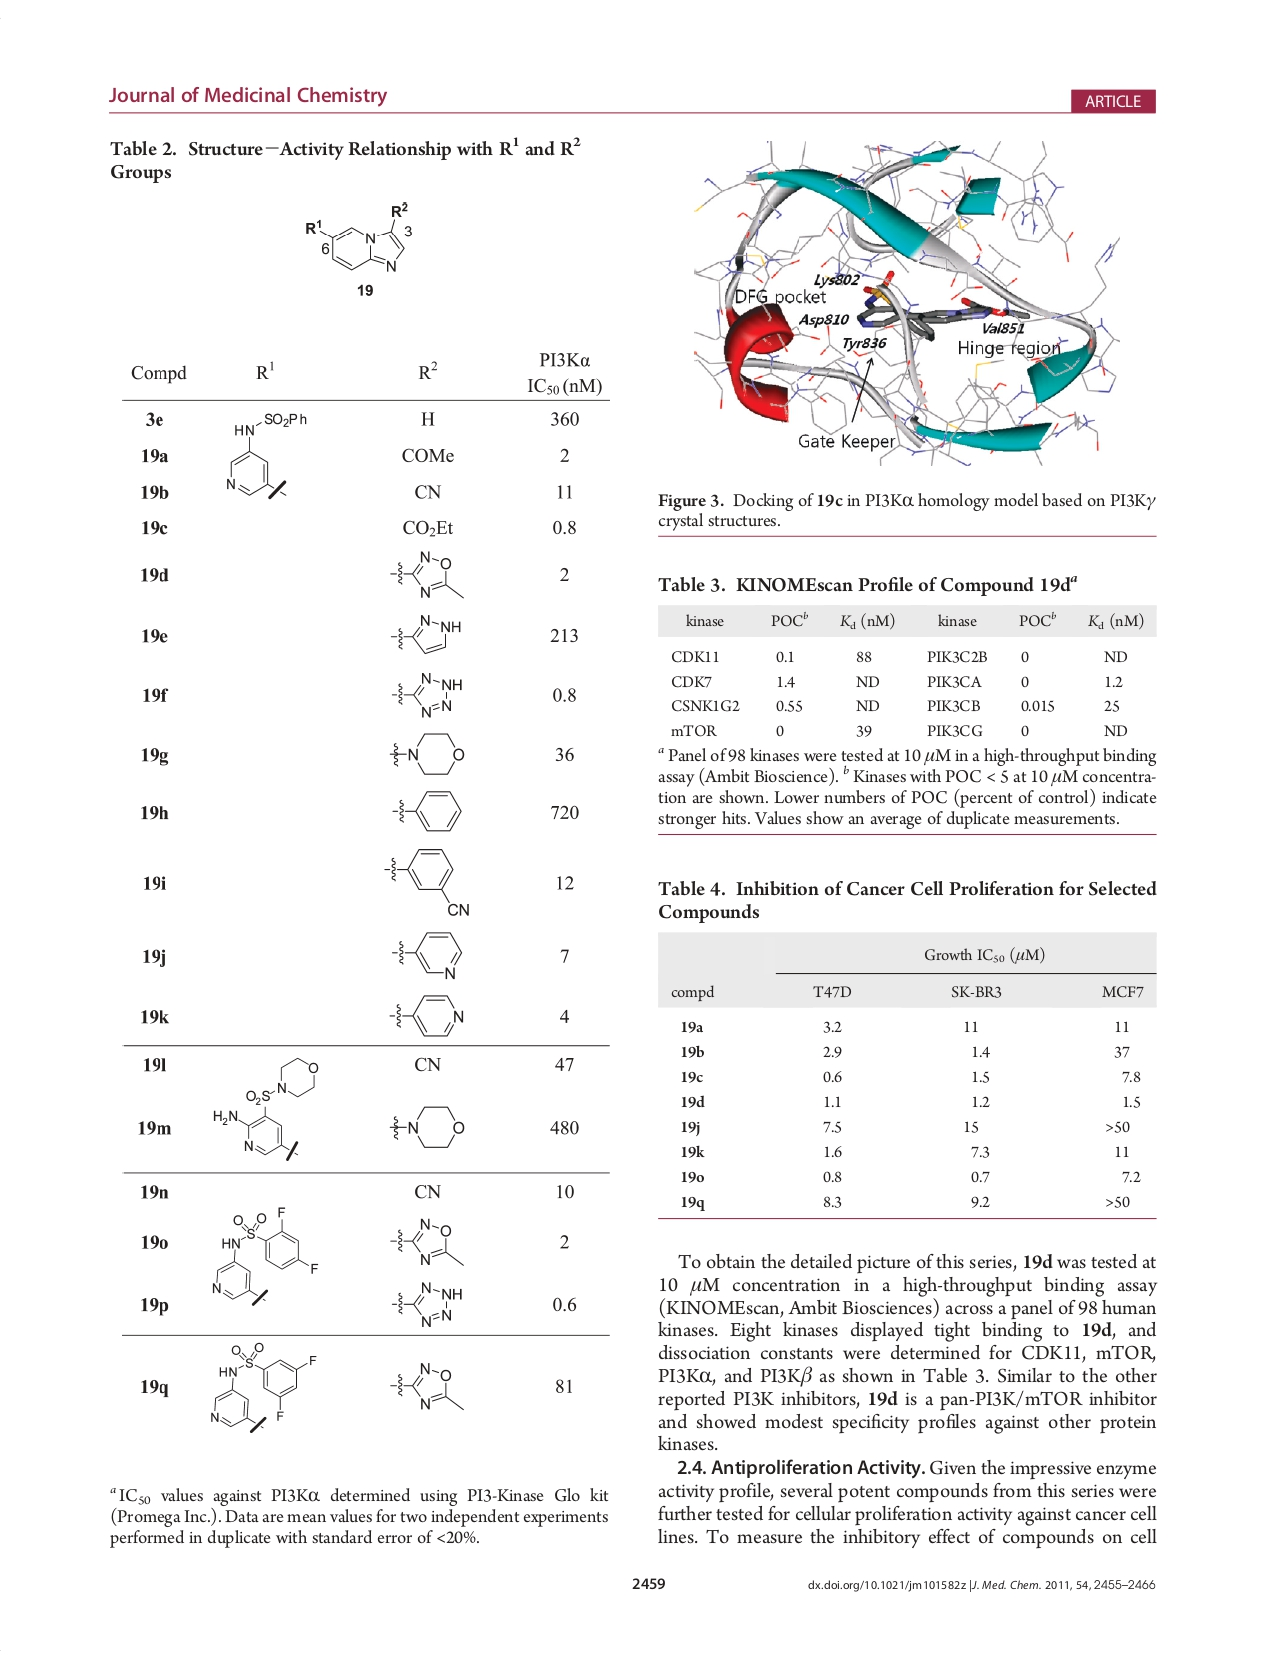exist_molecular: (206, 1204, 324, 1307), (207, 1056, 318, 1160), (207, 1341, 316, 1434), (305, 199, 414, 277), (221, 410, 309, 497), (382, 844, 471, 922), (387, 543, 465, 602), (387, 1358, 465, 1414), (390, 1214, 465, 1271), (386, 1275, 467, 1329), (386, 727, 465, 781), (384, 1102, 465, 1154), (386, 991, 465, 1040), (387, 928, 464, 979), (390, 670, 464, 722), (391, 786, 464, 835), (390, 612, 461, 657)
